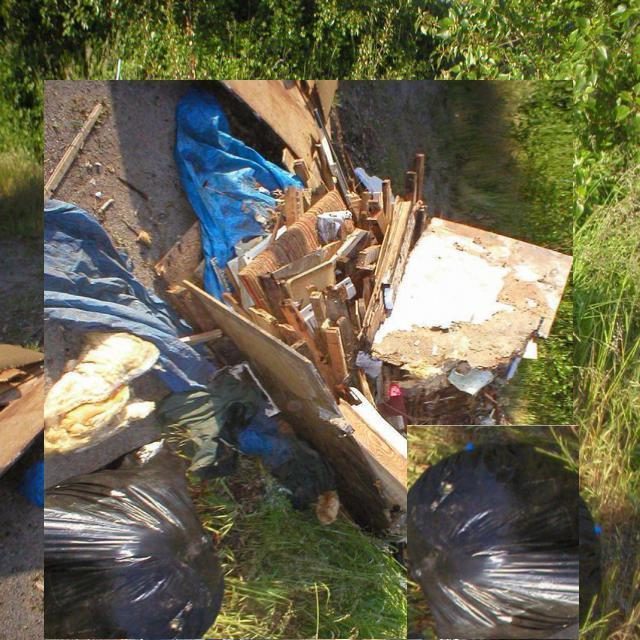Trashbag: (404, 439, 608, 640), (40, 451, 236, 640)
